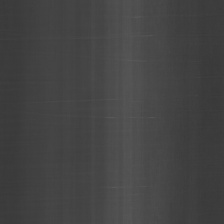waist_folding: (95, 24, 157, 183)
